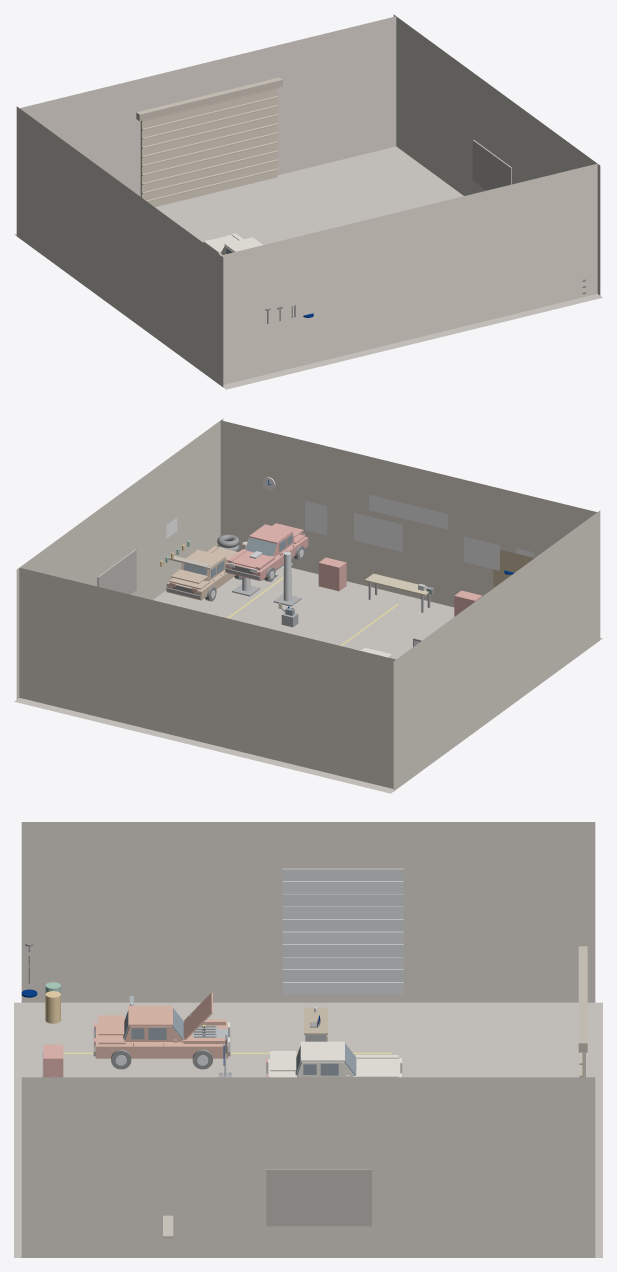
3 renders of one model, top to bottom at view 1: azimuth 30°, elevation 25°; view 2: azimuth 150°, elevation 25°; view 3: azimuth 270°, elevation 25°, orthographic. The views are drawn at different scales.
Parts seen in each view (by area): view 1: object 5, object 8, object 6, object 1, object 7, shutter, object 20, object 93; view 2: object 8, object 5, object 6, object 7, object 1, object 81, object 21, car_4 (×2), object 93, object 76, tool_cabinet_2, object 22 (+3 smaller); view 3: object 7, object 6, object 1, object 93, car (×2), object 86, object 91, object 82, object 83, object 85, object 87, object 89 (+9 smaller).
Boxes of the visible parts, x1=… form: object 5: x1=221, y1=163, x2=597, y2=384; object 8: x1=19, y1=16, x2=396, y2=196; object 6: x1=16, y1=106, x2=223, y2=387; object 1: x1=14, y1=146, x2=602, y2=389; object 7: x1=393, y1=14, x2=600, y2=295; shutter: x1=140, y1=89, x2=277, y2=206; object 20: x1=136, y1=77, x2=282, y2=121; object 93: x1=472, y1=140, x2=511, y2=190; object 8: x1=19, y1=567, x2=395, y2=788; object 5: x1=220, y1=420, x2=597, y2=607; object 6: x1=393, y1=510, x2=600, y2=791; object 7: x1=16, y1=418, x2=223, y2=699; object 1: x1=14, y1=565, x2=602, y2=793; object 81: x1=354, y1=512, x2=402, y2=551; object 21: x1=369, y1=494, x2=447, y2=529; car_4 (×2): x1=225, y1=524, x2=308, y2=580; object 93: x1=97, y1=549, x2=136, y2=594; object 76: x1=464, y1=536, x2=499, y2=570; tool_cabinet_2: x1=318, y1=557, x2=346, y2=591; object 22: x1=493, y1=549, x2=534, y2=586; object 7: x1=21, y1=1077, x2=595, y2=1257; object 6: x1=21, y1=822, x2=595, y2=1002; object 1: x1=14, y1=1002, x2=602, y2=1257; object 93: x1=266, y1=1169, x2=371, y2=1226; car (×2): x1=95, y1=1005, x2=228, y2=1058; object 86: x1=282, y1=931, x2=403, y2=944; object 91: x1=282, y1=868, x2=403, y2=881; object 82: x1=282, y1=982, x2=403, y2=994; object 83: x1=282, y1=969, x2=403, y2=981; object 85: x1=282, y1=944, x2=403, y2=956; object 87: x1=282, y1=919, x2=403, y2=931; object 89: x1=282, y1=894, x2=403, y2=906.
Bounding box in the file's own units: 21.6 × 6.6 × 19.5.
